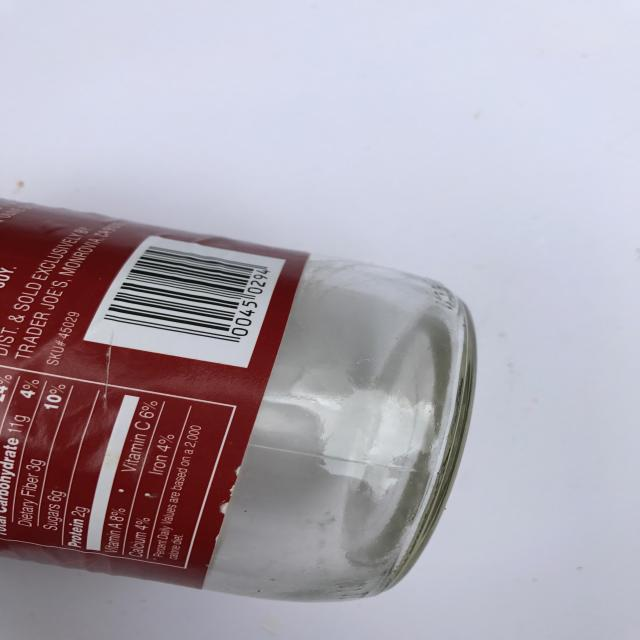Glass: (0, 172, 483, 625)
